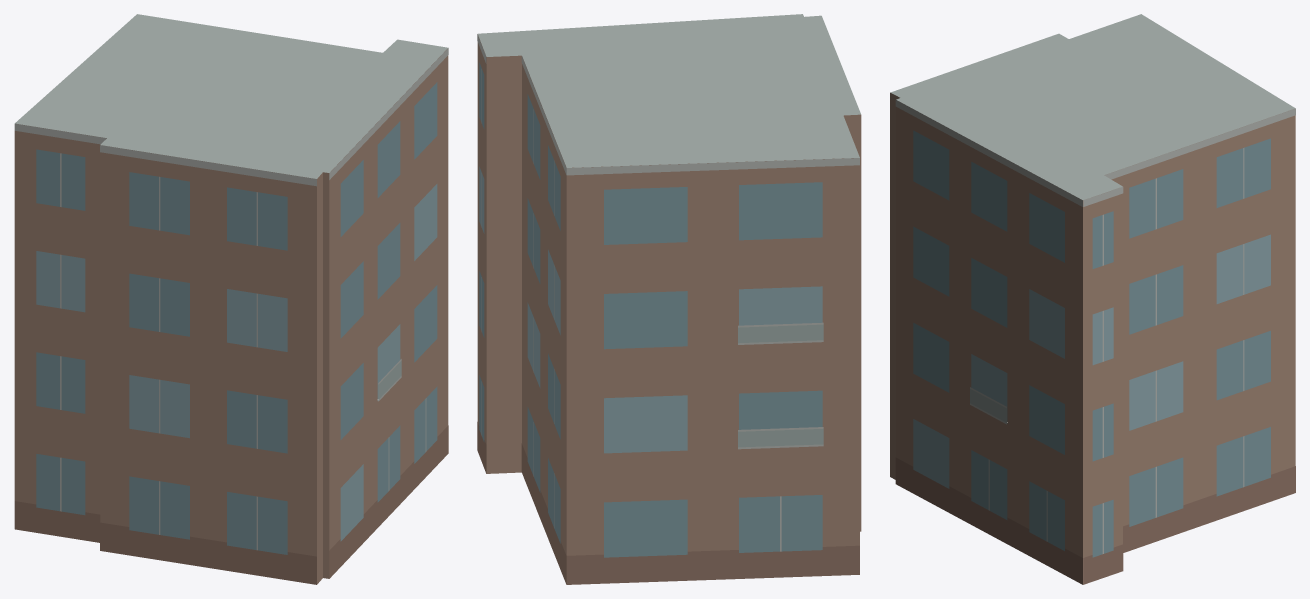
File: survey-upis-32811443.glb
The picture shows the model from 3 angles, left to right: view 1: azimuth 30°, elevation 25°; view 2: azimuth 150°, elevation 25°; view 3: azimuth 270°, elevation 25°; orthographic projection. The views are drawn at different scales.
Visible parts, largest first — view 1: survey-upis-32811443.tmp; view 2: survey-upis-32811443.tmp; view 3: survey-upis-32811443.tmp.
Boxes of the visible parts, left/top/right/bottom form: survey-upis-32811443.tmp: left=14, top=14, right=448, bottom=584; survey-upis-32811443.tmp: left=477, top=14, right=861, bottom=584; survey-upis-32811443.tmp: left=890, top=14, right=1295, bottom=584.
Bounding box in the file's own units: 14.19 × 13.65 × 13.06.
